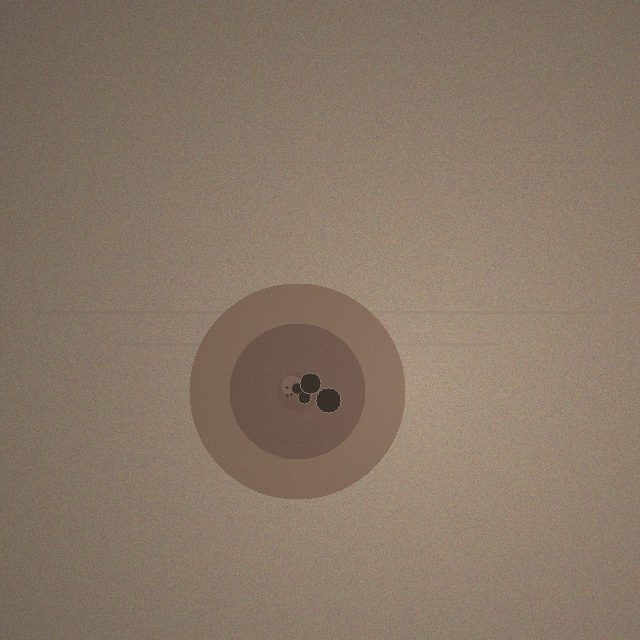shrinkage: (189, 283, 405, 499)
